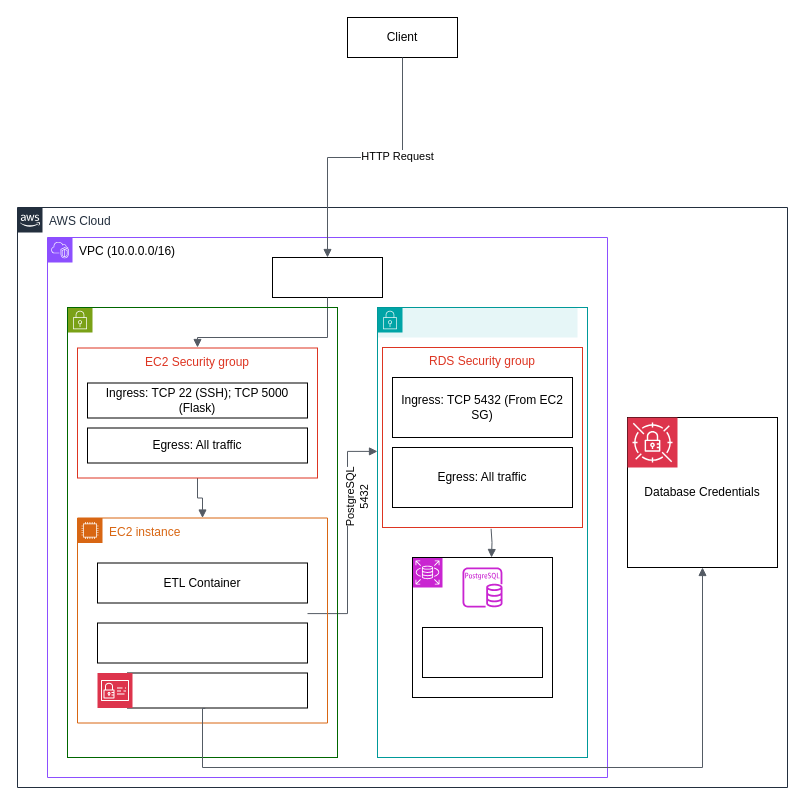
Image size: 805x805. Some labels were removed from this diagram. The centre of each missing label's shape, as x and y in pixels:
Flask API Container: point (202, 642)
IAM Role: prem_analytics_ec2_role: point (217, 690)
Internet Gateway: point (327, 277)
Private subnet: point (477, 322)
Public subnet (10.0.102.0/24): point (202, 532)
Storage: Encrypted Public Access: Disabled: point (482, 652)
